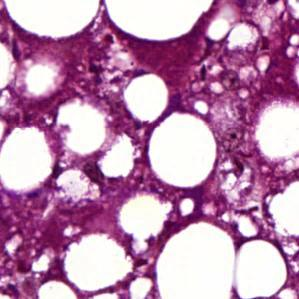steatosis: (150, 112, 219, 190), (121, 71, 171, 127)
